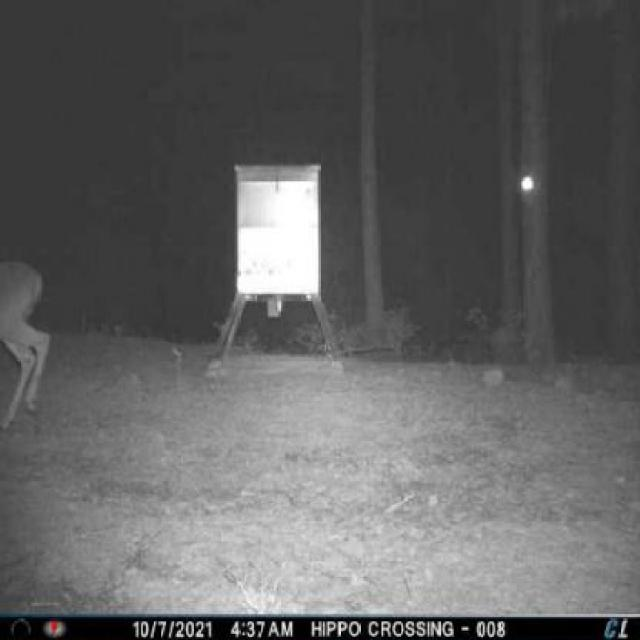Deer: (0, 255, 55, 447)
